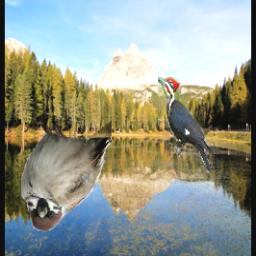Sparrow: (21, 113, 112, 231)
Woodpecker: (157, 77, 214, 174)
